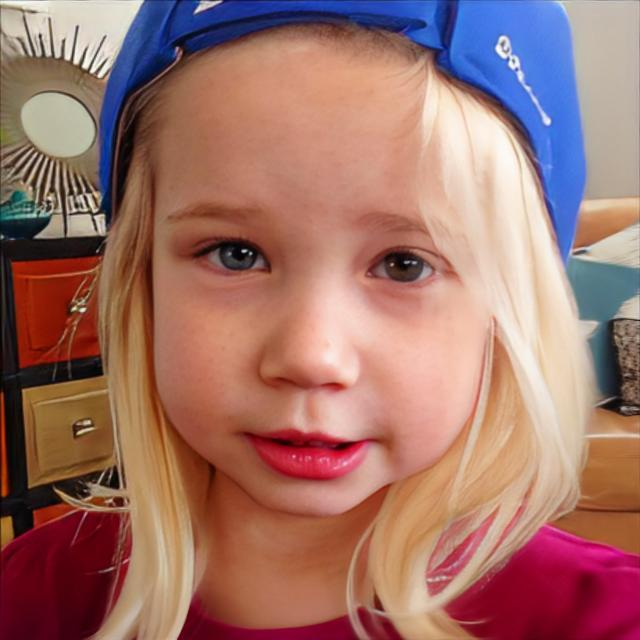sad: (152, 64, 490, 516)
